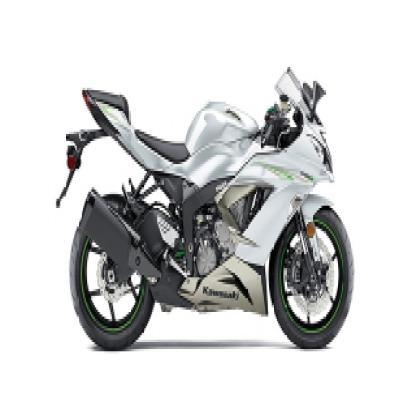Motorcycle: (55, 42, 360, 360)
